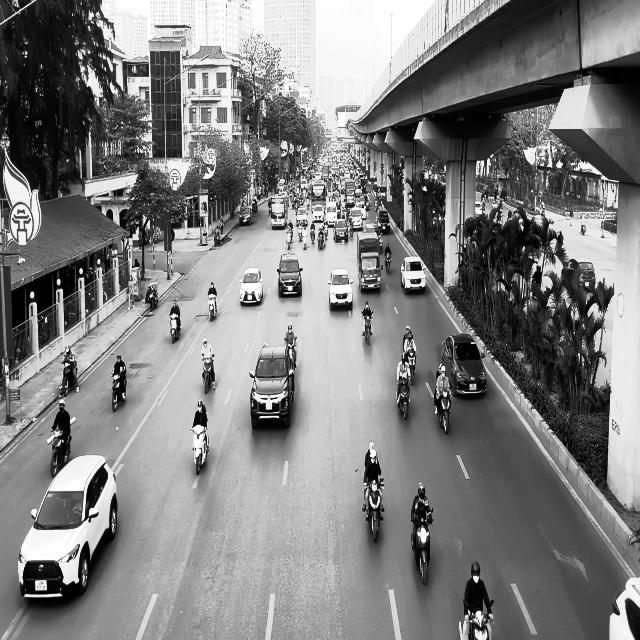car: (18, 454, 118, 600), (249, 341, 297, 429), (441, 332, 487, 397), (608, 576, 640, 640), (276, 252, 303, 297), (562, 258, 595, 291), (328, 267, 353, 310), (400, 256, 426, 294), (239, 267, 264, 305), (238, 206, 252, 226)
motorbike: (410, 507, 433, 585), (48, 417, 76, 477), (458, 600, 494, 639), (363, 478, 384, 542), (190, 422, 209, 475), (434, 384, 452, 434), (59, 360, 79, 397), (396, 375, 411, 420), (111, 369, 126, 412), (202, 354, 215, 394), (362, 309, 374, 345), (169, 314, 181, 343), (406, 350, 416, 384), (146, 283, 158, 310), (208, 293, 217, 321), (384, 252, 392, 272)
